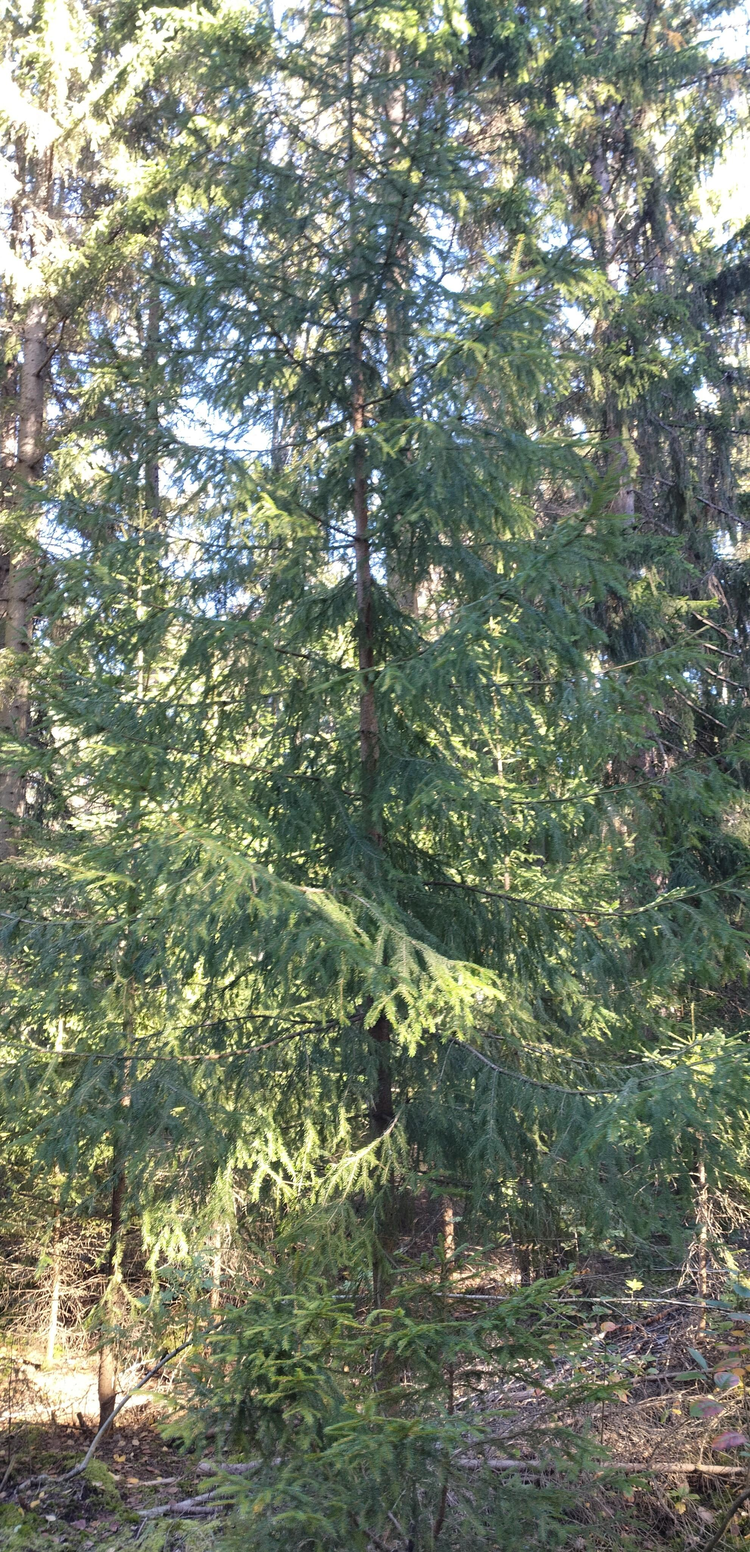Spruce: (3, 1, 748, 1476)
